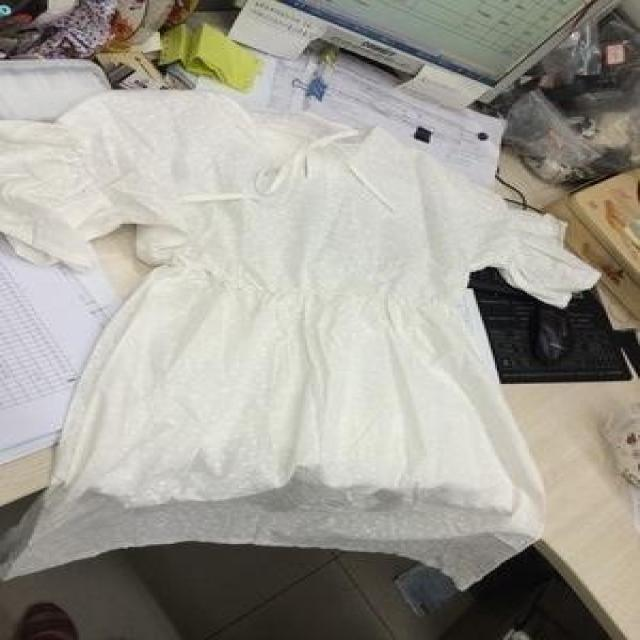short-sleeve-dress: (68, 61, 551, 584)
